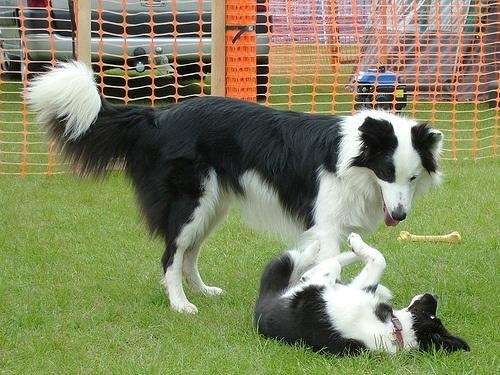dog: (30, 61, 440, 326), (256, 233, 470, 360)
